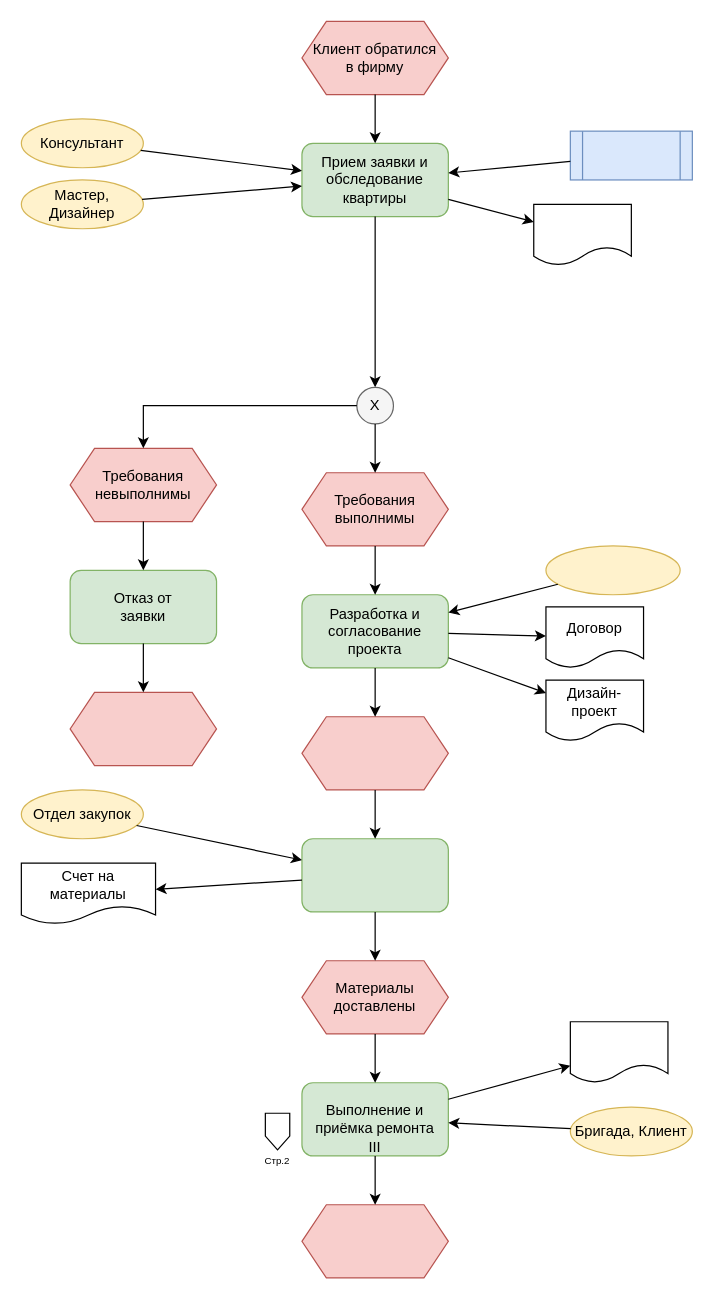
Some shapes in this 714 by 1299 pixel diagram are drawn without their labels. Here are the shapes that lost their labels. From the top down, the centre of each, then its label:
(630,155): CRM система
(582,234): Заявка
(612,570): Дизайнер, Мастер
(143,728): Клиенту отказано
(374,753): Проект согласован
(374,875): Планирование работ и закупка материалов
(618,1052): Акт приемки
(374,1241): Квартира отремонтирована
